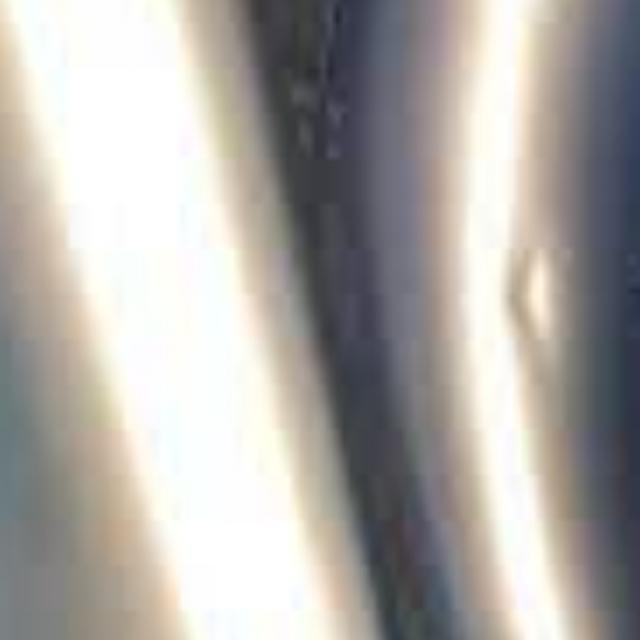dents: (486, 225, 614, 423)
